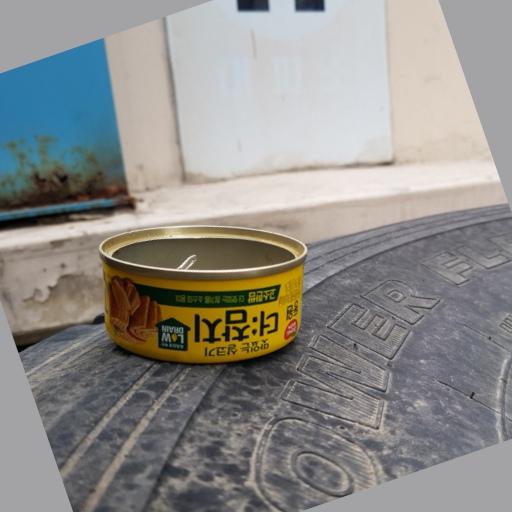Metal_1: (97, 226, 311, 364)
